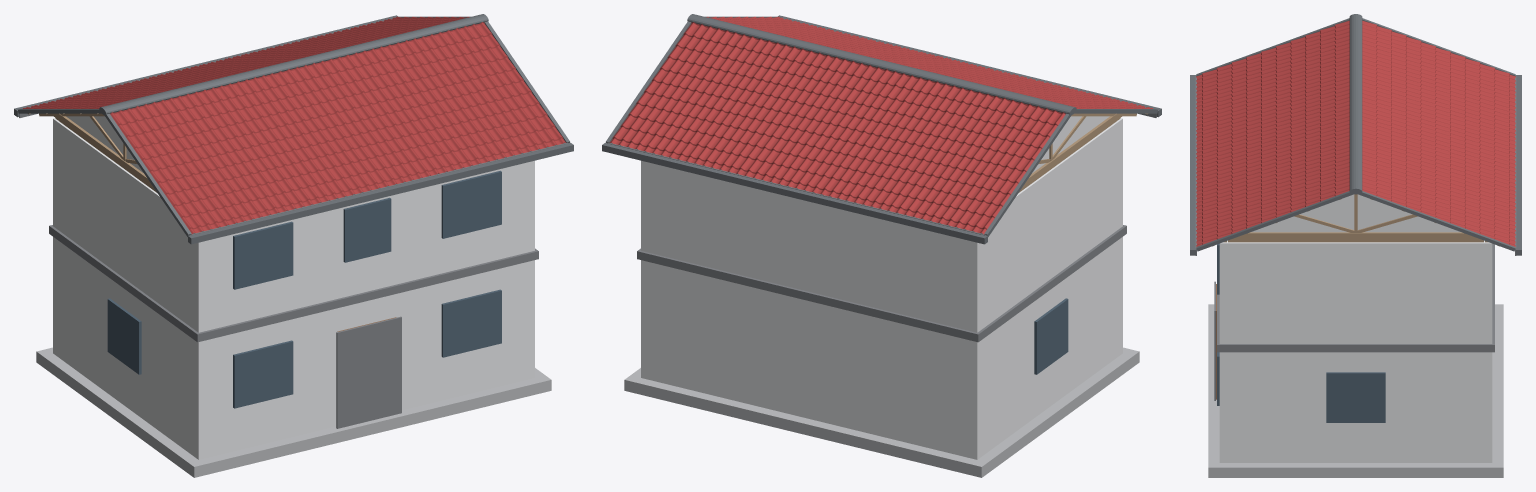
The model's file is Hermosa_Tile_Two_Storey_8x6.glb.
3 views of the same model, side by side, from view 1: azimuth 30°, elevation 25°; view 2: azimuth 150°, elevation 25°; view 3: azimuth 270°, elevation 25° (orthographic). The views are drawn at different scales.
Visible parts, largest first — view 1: GroundFloor_Walls, Foundation, Door_Frame, RoofSheet_08, RoofSheet_04, RoofSheet_07, RoofSheet_03, RoofSheet_05, RoofSheet_02, RoofSheet_06, RoofSheet_09, RoofSheet_01 (+24 smaller); view 2: GroundFloor_Walls, Foundation, RoofSheet_17, RoofSheet_13, RoofSheet_16, RoofSheet_12, RoofSheet_14, RoofSheet_11, RoofSheet_15, RoofSheet_18, RoofSheet_10, SecondFloor_BandTrim (+18 smaller); view 3: GroundFloor_Walls, Foundation, Gable_Wall_Right, Window_Side_Right, RoofSheet_01, RoofSheet_07, RoofSheet_10, RoofSheet_16, RoofSheet_03, RoofSheet_06, RoofSheet_08, RoofSheet_12 (+20 smaller).
Boxes of the visible parts, x1,y1,x2,y2 form: GroundFloor_Walls: [53, 118, 534, 459]; Foundation: [36, 347, 551, 477]; Door_Frame: [336, 316, 401, 428]; RoofSheet_08: [402, 32, 525, 162]; RoofSheet_04: [234, 73, 357, 203]; RoofSheet_07: [360, 42, 483, 172]; RoofSheet_03: [192, 83, 314, 214]; RoofSheet_05: [276, 63, 399, 193]; RoofSheet_02: [149, 94, 272, 224]; RoofSheet_06: [318, 52, 441, 183]; RoofSheet_09: [444, 22, 565, 152]; RoofSheet_01: [110, 104, 230, 234]; GroundFloor_Walls: [641, 118, 1122, 459]; Foundation: [624, 347, 1139, 477]; RoofSheet_17: [650, 32, 773, 162]; RoofSheet_13: [818, 73, 941, 203]; RoofSheet_16: [692, 42, 815, 172]; RoofSheet_12: [861, 83, 983, 214]; RoofSheet_14: [776, 63, 899, 193]; RoofSheet_11: [903, 94, 1026, 224]; RoofSheet_15: [734, 52, 857, 183]; RoofSheet_18: [610, 22, 731, 152]; RoofSheet_10: [945, 104, 1065, 234]; SecondFloor_BandTrim: [637, 225, 1126, 342]; GroundFloor_Walls: [1219, 240, 1492, 462]; Foundation: [1208, 304, 1503, 477]; Gable_Wall_Right: [1251, 194, 1460, 232]; Window_Side_Right: [1326, 372, 1385, 422]; RoofSheet_01: [1196, 20, 1349, 95]; RoofSheet_07: [1196, 136, 1349, 210]; RoofSheet_10: [1362, 20, 1515, 95]; RoofSheet_16: [1362, 136, 1515, 210]; RoofSheet_03: [1196, 59, 1349, 133]; RoofSheet_06: [1196, 116, 1349, 191]; RoofSheet_08: [1196, 155, 1349, 229]; RoofSheet_12: [1362, 59, 1515, 133].
Size of the model in its own units: 9.1 by 7.16 by 7.3.
